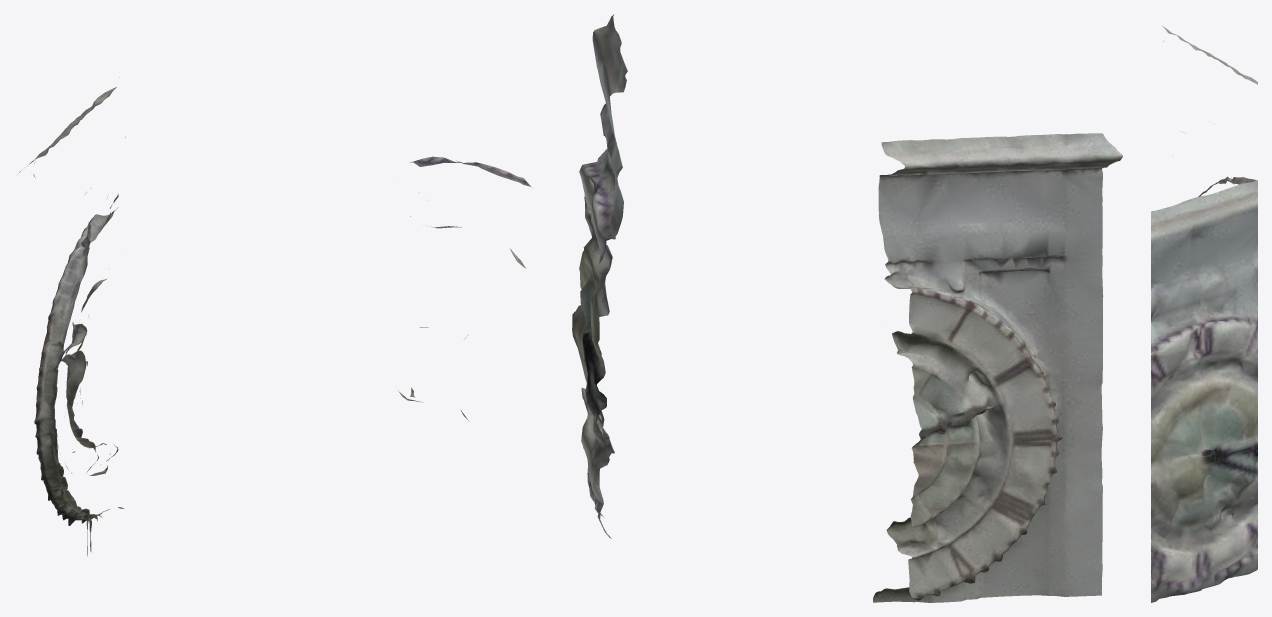
3 renders of one model, left to right at view 1: azimuth 30°, elevation 25°; view 2: azimuth 150°, elevation 25°; view 3: azimuth 270°, elevation 25°, orthographic. The views are drawn at different scales.
Bounding box in the file's own units: 12.27 × 9.88 × 2.5.
1 material, 1 textured.
